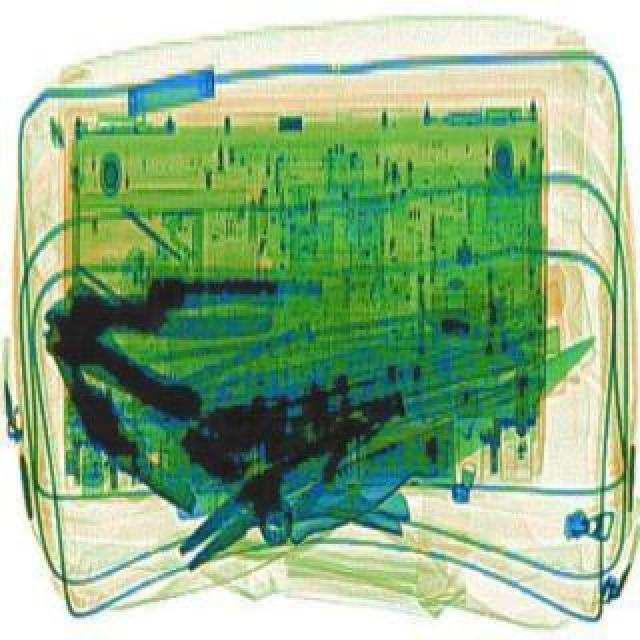knife: (270, 316, 622, 560)
